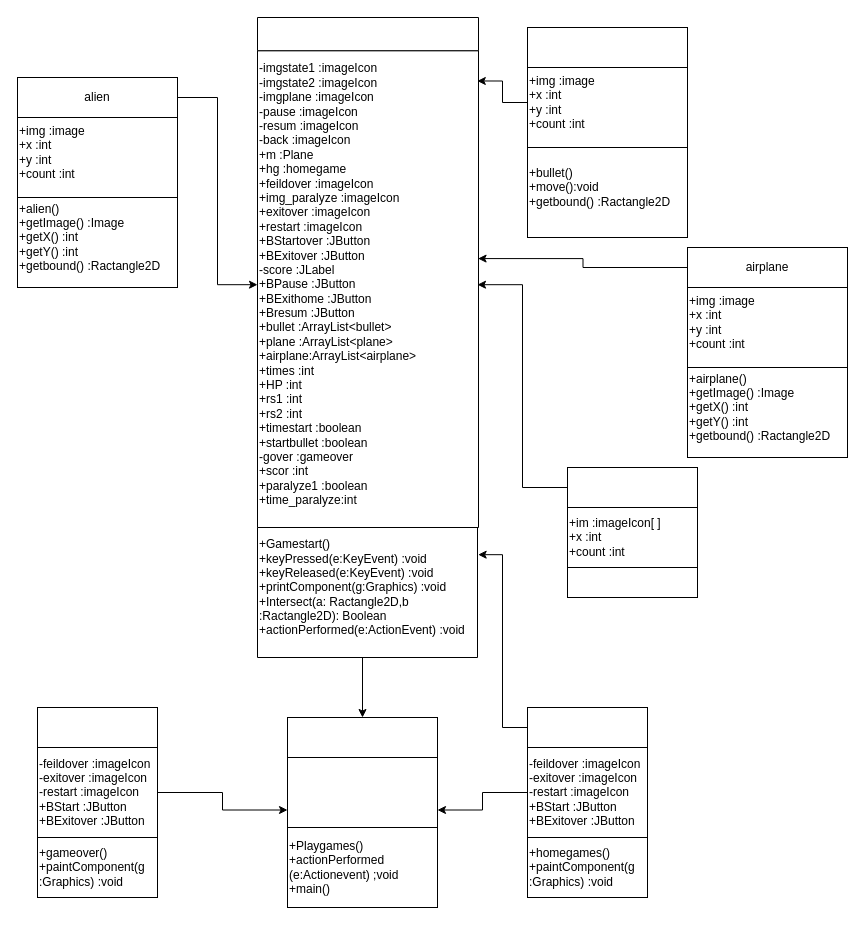
This 865x925 diagram has some shape labels left out. The shapes that lost their labels are listed below. From the top down, each one's centre as x and y in pixels, then its label:
pixel 367 33: Gamestart
pixel 607 47: Bullet
pixel 632 487: Plane
pixel 632 582: +Plane()
pixel 97 727: gameover
pixel 362 737: Playgames
pixel 587 727: homegames
pixel 362 792: +homegames :homegames +state1 :Gamestart +gover :gameover
